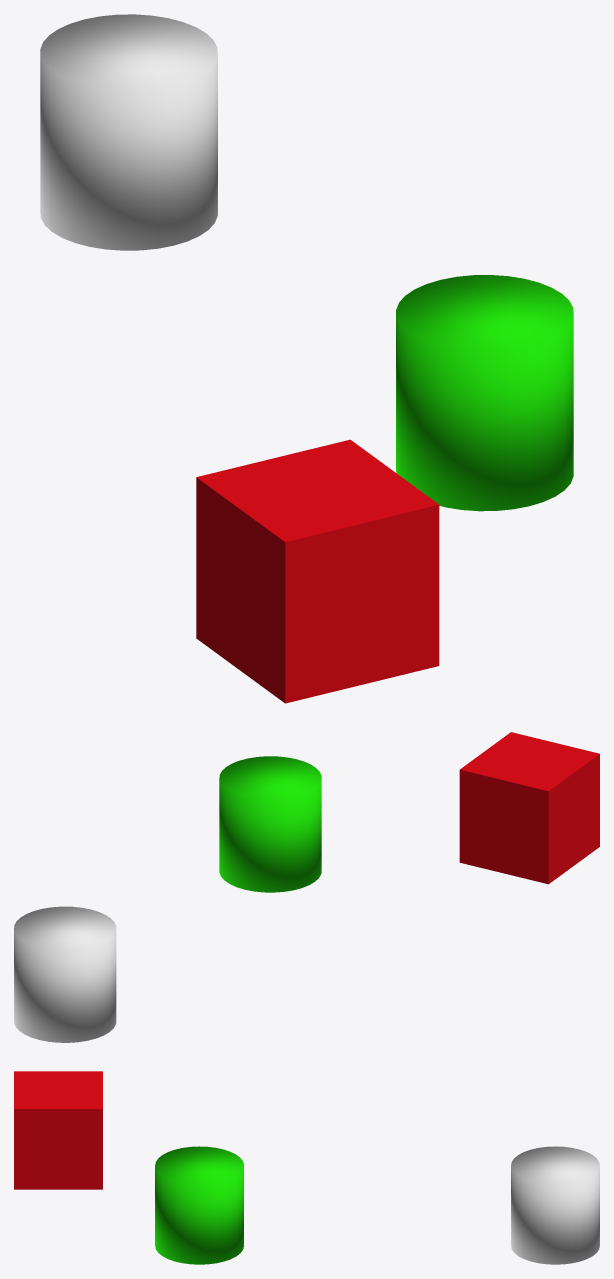
The picture shows the model from 3 angles, top to bottom: view 1: azimuth 30°, elevation 25°; view 2: azimuth 150°, elevation 25°; view 3: azimuth 270°, elevation 25°; orthographic projection. The views are drawn at different scales.
Visible parts, largest first — view 1: Cube, Cylinder, Cylinder.002; view 2: Cube, Cylinder.002, Cylinder; view 3: Cube, Cylinder, Cylinder.002.
Boxes of the visible parts, box(x1,y1,x2,y2) form: Cube: box(196, 439, 439, 703); Cylinder: box(40, 14, 217, 250); Cylinder.002: box(396, 275, 573, 511); Cube: box(459, 732, 599, 884); Cylinder.002: box(219, 756, 321, 892); Cylinder: box(14, 906, 116, 1042); Cube: box(14, 1071, 102, 1189); Cylinder: box(511, 1146, 599, 1264); Cylinder.002: box(155, 1146, 243, 1264).
Size of what is drawn, in the model's own units: 6 by 2 by 13.17.
